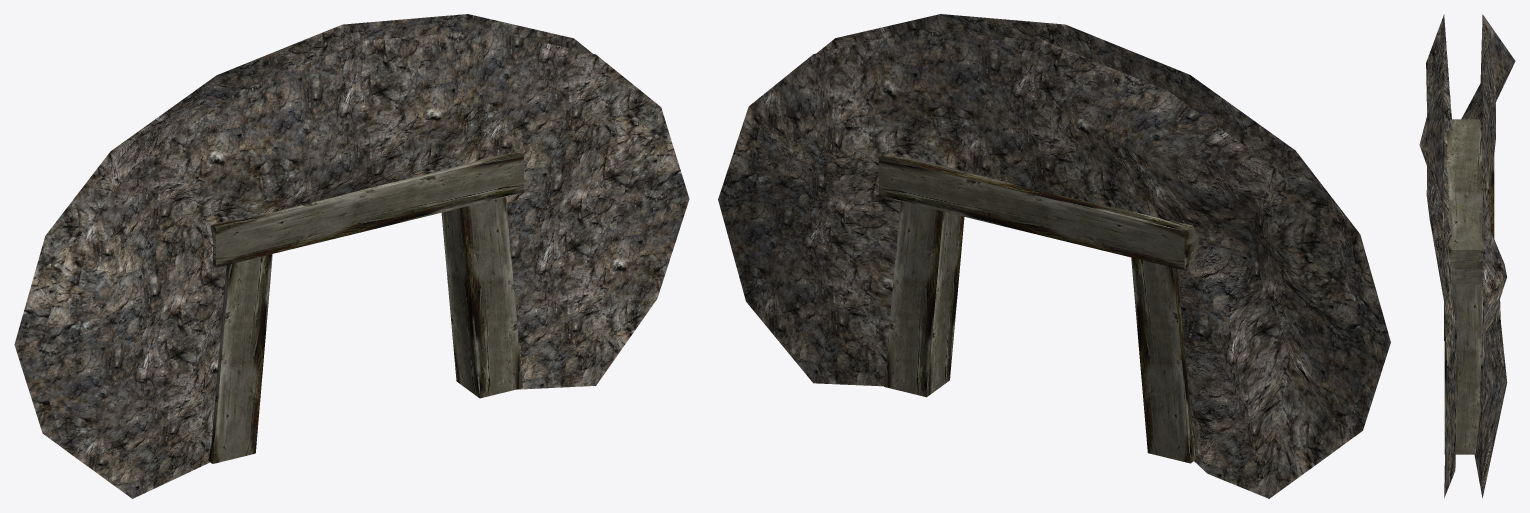
The model's file is pir_m_prp_mng_support_narrow.fbx.
3 renders of one model, left to right at view 1: azimuth 30°, elevation 25°; view 2: azimuth 150°, elevation 25°; view 3: azimuth 270°, elevation 25°, orthographic. The views are drawn at different scales.
Parts seen in each view (by area): view 1: rockwall_2, rockwall_1, minesupport_1, minesupport_4, minesupport_3; view 2: rockwall_1, rockwall_2, minesupport_1, minesupport_4, minesupport_3; view 3: rockwall_1, rockwall_2, minesupport_1, minesupport_4.
Part boxes in pixels (<box>): rockwall_2: <box>36,30,689,498</box>; rockwall_1: <box>14,14,592,449</box>; minesupport_1: <box>211,152,523,267</box>; minesupport_4: <box>441,197,522,398</box>; minesupport_3: <box>208,254,272,463</box>; rockwall_1: <box>718,30,1368,498</box>; rockwall_2: <box>816,14,1390,445</box>; minesupport_1: <box>878,155,1198,270</box>; minesupport_4: <box>884,201,964,397</box>; minesupport_3: <box>1131,257,1195,463</box>; rockwall_1: <box>1461,14,1515,498</box>; rockwall_2: <box>1419,14,1457,497</box>; minesupport_1: <box>1443,119,1494,284</box>; minesupport_4: <box>1444,284,1482,454</box>.
Bounding box in the file's own units: 6992 × 4094 × 1021.
2 materials, 2 textured.
